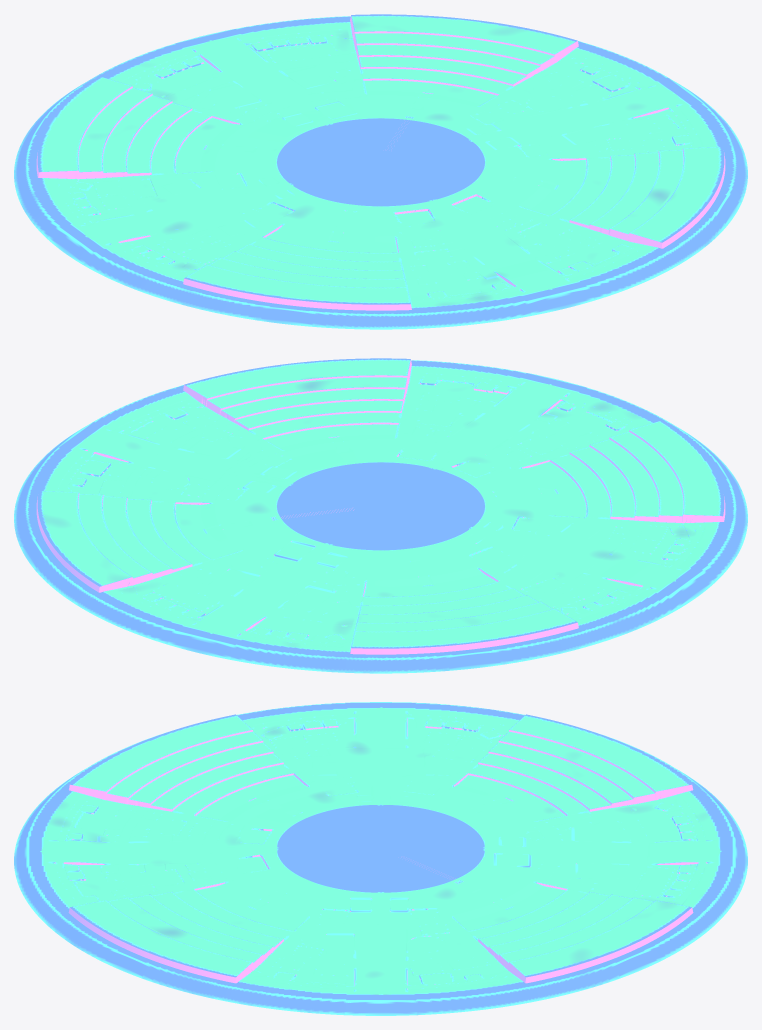
Rendered from concordia_terrain.glb.
3 views of the same model, one above another, from view 1: azimuth 30°, elevation 25°; view 2: azimuth 150°, elevation 25°; view 3: azimuth 270°, elevation 25° (orthographic).
Visible parts, largest first — view 1: TRN_CityChunk_x6_y6_LOD0, TRN_CityChunk_x2_y1_LOD0, TRN_CityChunk_x1_y5_LOD0, TRN_CityChunk_x3_y3_LOD0, TRN_CityChunk_x6_y1_LOD0, TRN_CityChunk_x1_y2_LOD0, TRN_CityChunk_x7_y5_LOD0, TRN_CityChunk_x5_y1_LOD0, TRN_CityChunk_x4_y3_LOD0, TRN_CityChunk_x4_y2_LOD0, TRN_CityChunk_x1_y6_LOD0, TRN_CityChunk_x2_y6_LOD0 (+54 smaller); view 2: TRN_CityChunk_x6_y2_LOD0, TRN_CityChunk_x2_y7_LOD0, TRN_CityChunk_x1_y3_LOD0, TRN_CityChunk_x3_y5_LOD0, TRN_CityChunk_x6_y7_LOD0, TRN_CityChunk_x1_y6_LOD0, TRN_CityChunk_x7_y3_LOD0, TRN_CityChunk_x5_y7_LOD0, TRN_CityChunk_x4_y6_LOD0, TRN_CityChunk_x1_y2_LOD0, TRN_CityChunk_x2_y2_LOD0, TRN_CityChunk_x5_y1_LOD0 (+54 smaller); view 3: TRN_CityChunk_x3_y7_LOD0, TRN_CityChunk_x7_y2_LOD0, TRN_CityChunk_x7_y6_LOD0, TRN_CityChunk_x2_y2_LOD0, TRN_CityChunk_x2_y6_LOD0, TRN_CityChunk_x3_y1_LOD0, TRN_CityChunk_x6_y4_LOD0, TRN_CityChunk_x5_y5_LOD0, TRN_CityChunk_x5_y3_LOD0, TRN_CityChunk_x5_y4_LOD0, TRN_CityChunk_x6_y1_LOD0, TRN_CityChunk_x6_y7_LOD0 (+53 smaller).
Part boxes in pixels (<box>): TRN_CityChunk_x6_y6_LOD0: <box>385,34,502,92</box>; TRN_CityChunk_x2_y1_LOD0: <box>302,270,419,328</box>; TRN_CityChunk_x1_y5_LOD0: <box>54,161,171,214</box>; TRN_CityChunk_x3_y3_LOD0: <box>290,187,407,242</box>; TRN_CityChunk_x6_y1_LOD0: <box>603,193,716,248</box>; TRN_CityChunk_x1_y2_LOD0: <box>184,256,301,316</box>; TRN_CityChunk_x7_y5_LOD0: <box>504,53,621,104</box>; TRN_CityChunk_x5_y1_LOD0: <box>527,215,644,267</box>; TRN_CityChunk_x4_y3_LOD0: <box>365,169,482,221</box>; TRN_CityChunk_x4_y2_LOD0: <box>409,203,526,254</box>; TRN_CityChunk_x1_y6_LOD0: <box>15,126,128,181</box>; TRN_CityChunk_x2_y6_LOD0: <box>85,112,202,162</box>; TRN_CityChunk_x6_y2_LOD0: <box>259,378,376,436</box>; TRN_CityChunk_x2_y7_LOD0: <box>342,614,459,672</box>; TRN_CityChunk_x1_y3_LOD0: <box>590,505,707,558</box>; TRN_CityChunk_x3_y5_LOD0: <box>354,531,471,586</box>; TRN_CityChunk_x6_y7_LOD0: <box>45,537,158,592</box>; TRN_CityChunk_x1_y6_LOD0: <box>460,600,577,660</box>; TRN_CityChunk_x7_y3_LOD0: <box>140,397,257,448</box>; TRN_CityChunk_x5_y7_LOD0: <box>117,559,234,611</box>; TRN_CityChunk_x4_y6_LOD0: <box>235,546,353,598</box>; TRN_CityChunk_x1_y2_LOD0: <box>633,470,746,525</box>; TRN_CityChunk_x2_y2_LOD0: <box>559,456,675,506</box>; TRN_CityChunk_x5_y1_LOD0: <box>377,371,493,421</box>; TRN_CityChunk_x3_y7_LOD0: <box>597,791,683,835</box>; TRN_CityChunk_x7_y2_LOD0: <box>164,937,250,988</box>; TRN_CityChunk_x7_y6_LOD0: <box>511,937,597,988</box>; TRN_CityChunk_x2_y2_LOD0: <box>164,754,250,798</box>; TRN_CityChunk_x2_y6_LOD0: <box>511,754,597,798</box>; TRN_CityChunk_x3_y1_LOD0: <box>78,791,164,835</box>; TRN_CityChunk_x6_y4_LOD0: <box>337,905,424,944</box>; TRN_CityChunk_x5_y5_LOD0: <box>424,867,510,908</box>; TRN_CityChunk_x5_y3_LOD0: <box>251,867,337,908</box>; TRN_CityChunk_x5_y4_LOD0: <box>337,866,424,905</box>; TRN_CityChunk_x6_y1_LOD0: <box>78,900,164,952</box>; TRN_CityChunk_x6_y7_LOD0: <box>597,900,683,952</box>.
Size of what is drawn, in the model's own units: 424 by 9.52 by 424.
